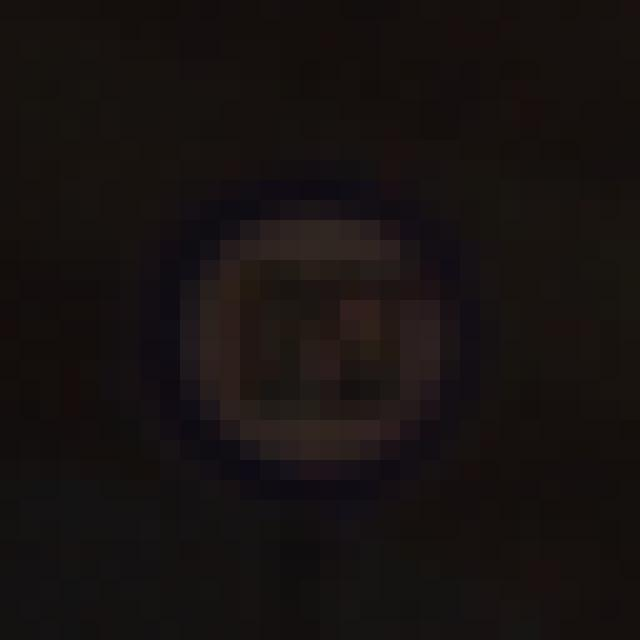SPEED LIMIT 120: (150, 189, 490, 492)
